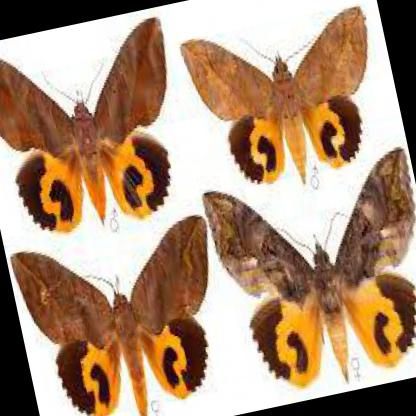fruit sucking moth: (201, 149, 416, 387), (11, 214, 210, 416), (0, 19, 170, 232), (179, 8, 367, 187)
